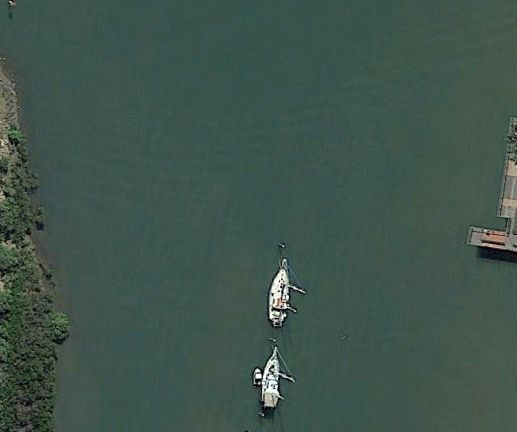boat: (257, 346, 288, 415), (266, 258, 293, 330)
